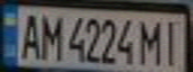2: (81, 13, 103, 64), (100, 15, 121, 65)
4: (115, 16, 139, 65), (63, 12, 84, 62)
A: (15, 9, 42, 61)
I: (157, 17, 184, 66)
M: (136, 16, 166, 65), (36, 11, 63, 61)
